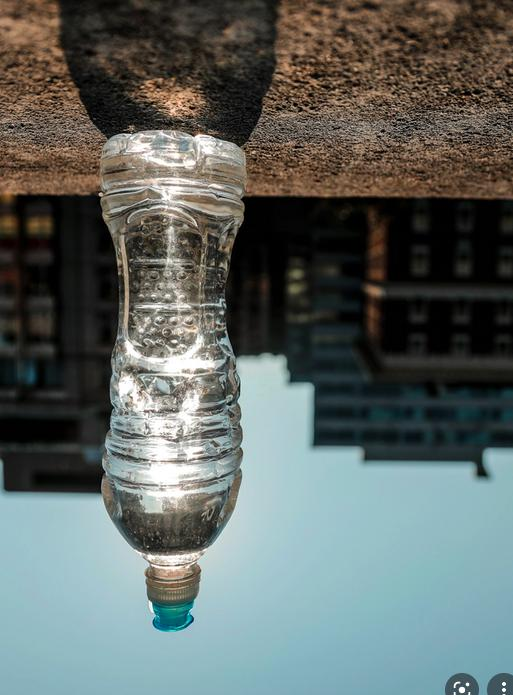Plastic: (90, 123, 252, 635)
